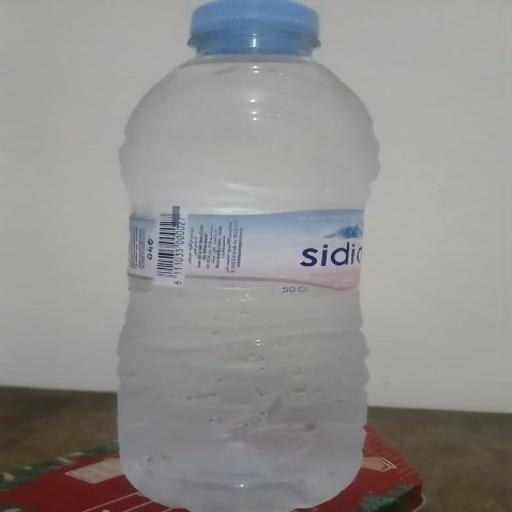bouteille conformite: (119, 0, 377, 512)
